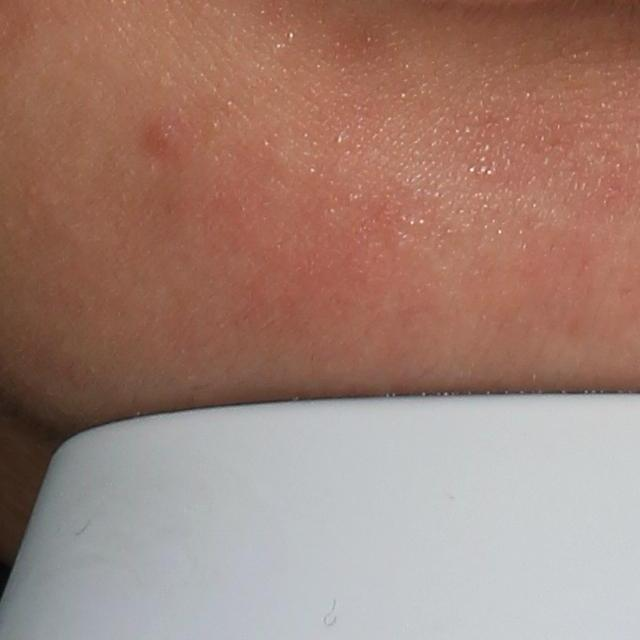papule: (144, 123, 178, 162)
